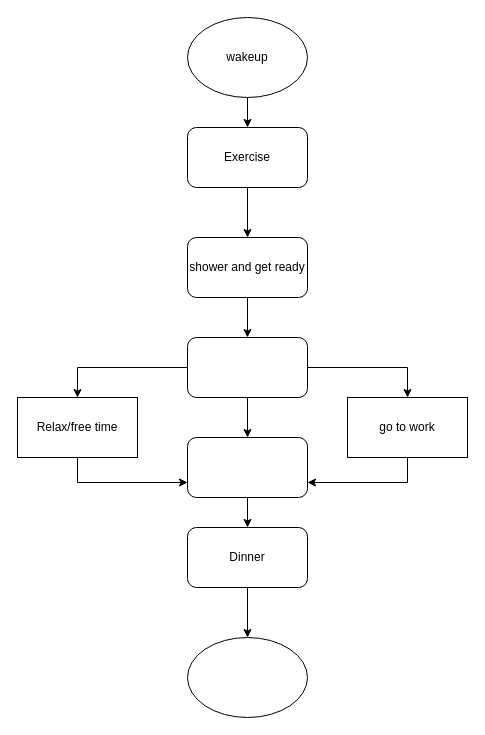
The diagram is 485 pixels wide and 735 high, and some of its shapes have lost their labels. Each missing label, with the centre of its shape:
have Breakfast: point (247, 367)
Sleep: point (247, 677)
work /study: point (247, 467)
